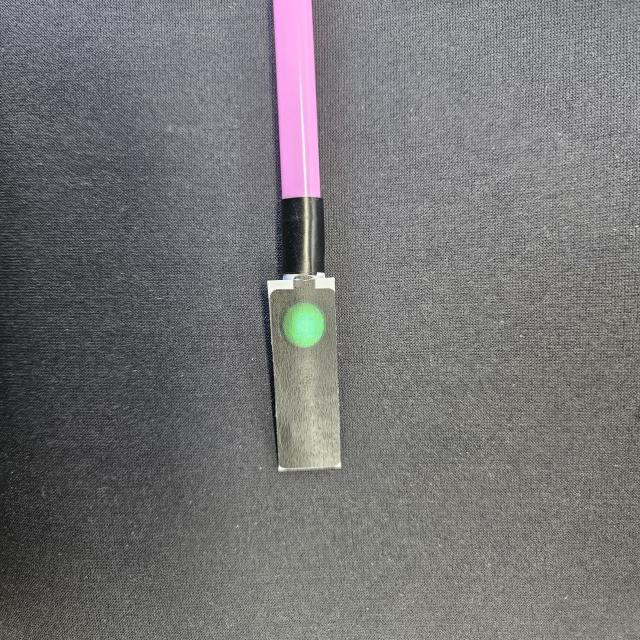traffic light: (264, 274, 344, 474)
